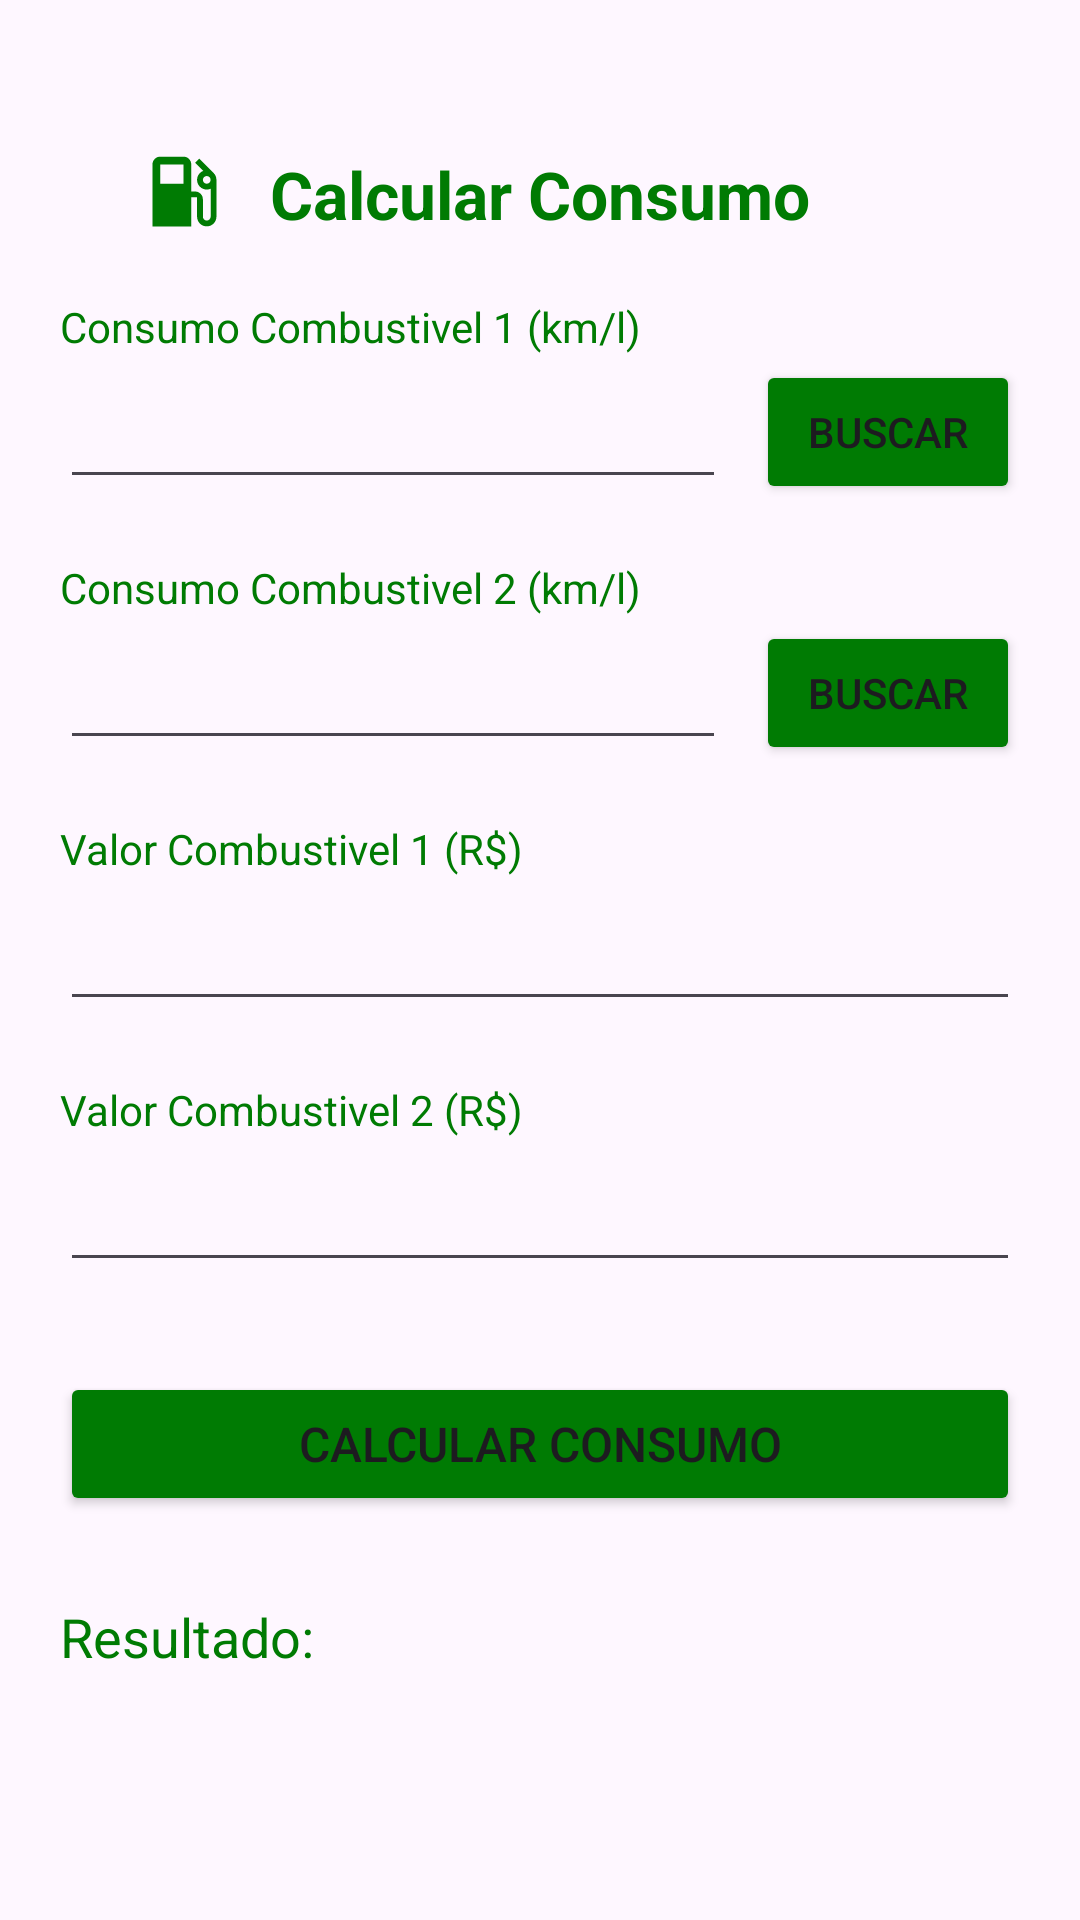

Icons on this 1080w x 1920h Android screen, each with its box as (x1, y1, x2, y2):
local gas station: (152, 156, 217, 227)
